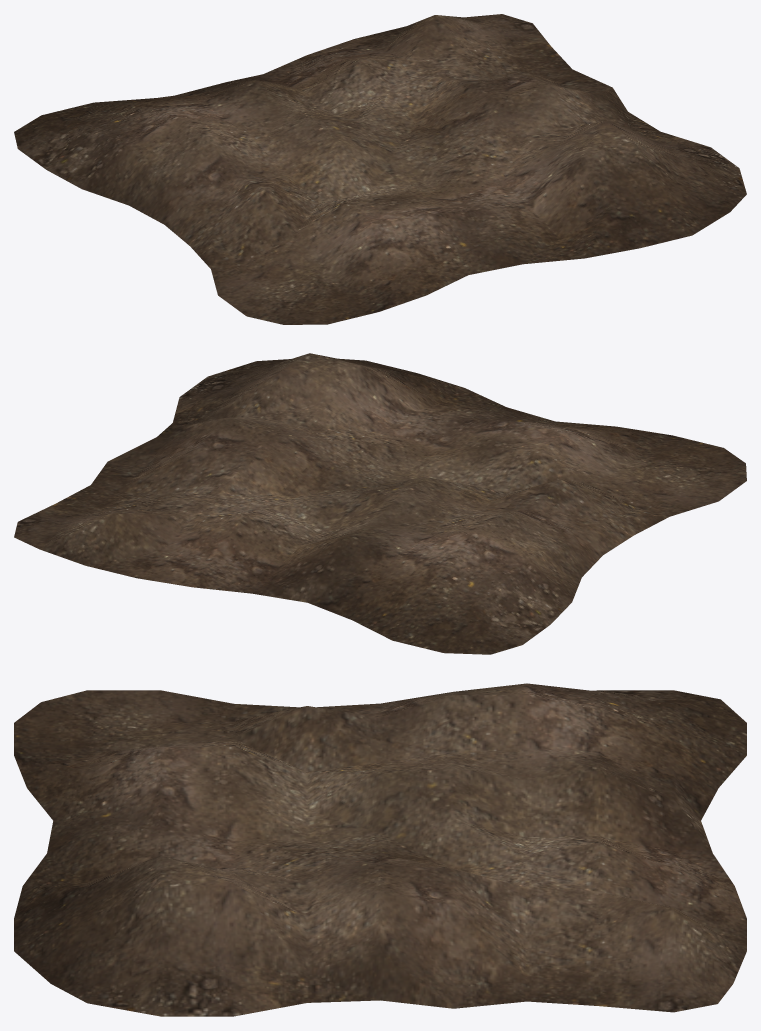
The model's file is pigmud.fbx.
3 renders of one model, top to bottom at view 1: azimuth 30°, elevation 25°; view 2: azimuth 150°, elevation 25°; view 3: azimuth 270°, elevation 25°, orthographic. The views are drawn at different scales.
Visible parts, largest first — view 1: Box01_0; view 2: Box01_0; view 3: Box01_0.
Boxes of the visible parts, <box> form: Box01_0: <box>14,14,746,324</box>; Box01_0: <box>14,353,746,654</box>; Box01_0: <box>14,683,746,1016</box>.
Bounding box in the file's own units: 377 × 35.5 × 358.
Materials: 1 (1 with a texture image).
